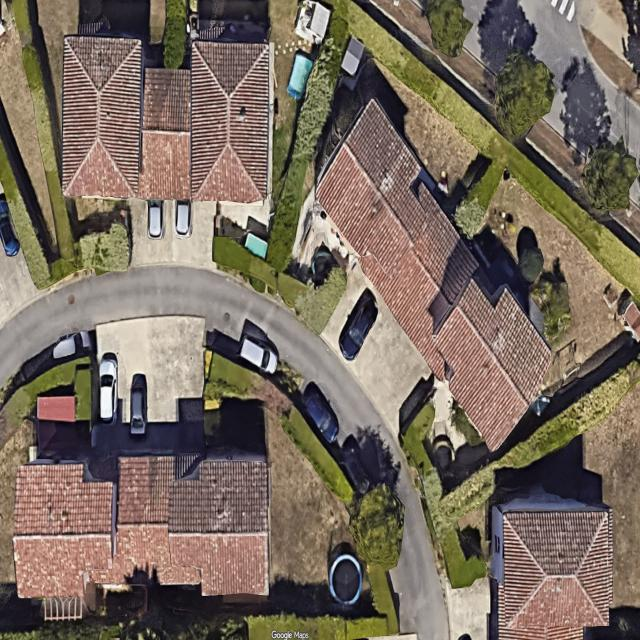maison: (284, 98, 580, 451), (491, 484, 613, 640), (58, 36, 143, 199), (189, 40, 271, 203), (14, 464, 114, 596), (106, 455, 198, 584), (169, 461, 268, 534), (138, 68, 190, 200)
